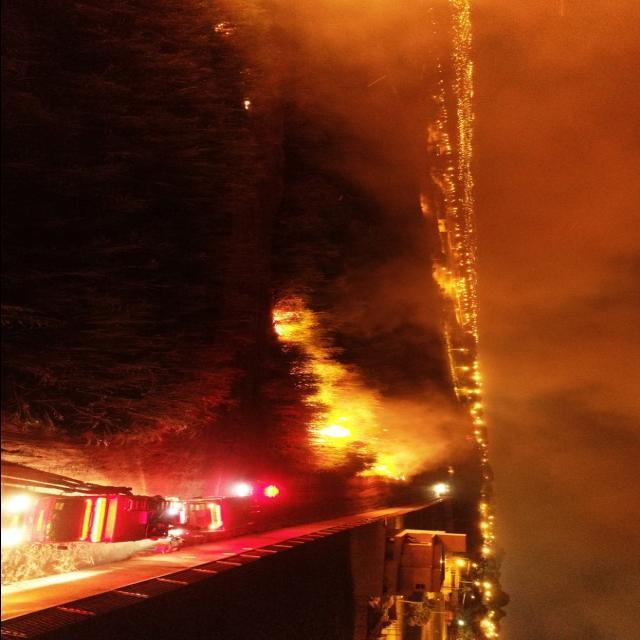Fire: (306, 409, 358, 446), (268, 305, 304, 341)
